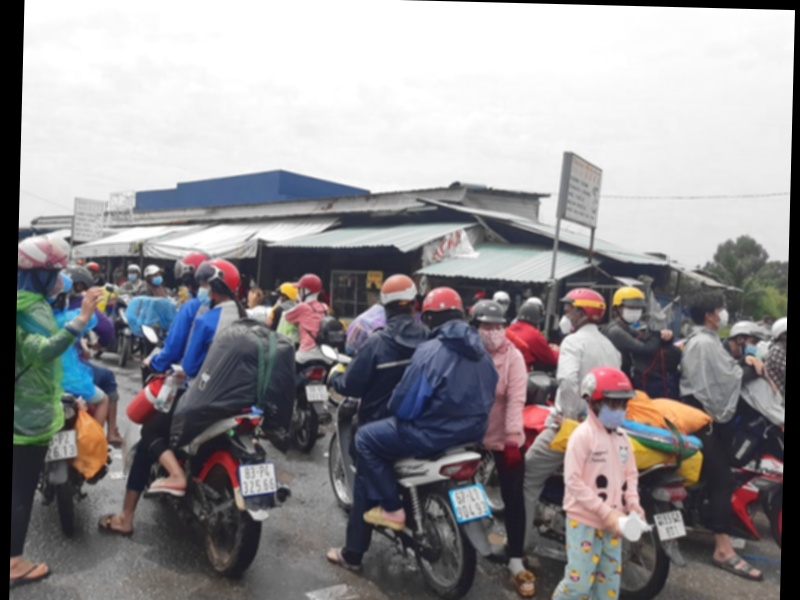Bien-so: (484, 448, 529, 490), (272, 450, 312, 489), (689, 456, 728, 492), (77, 440, 110, 473), (329, 369, 358, 390)
